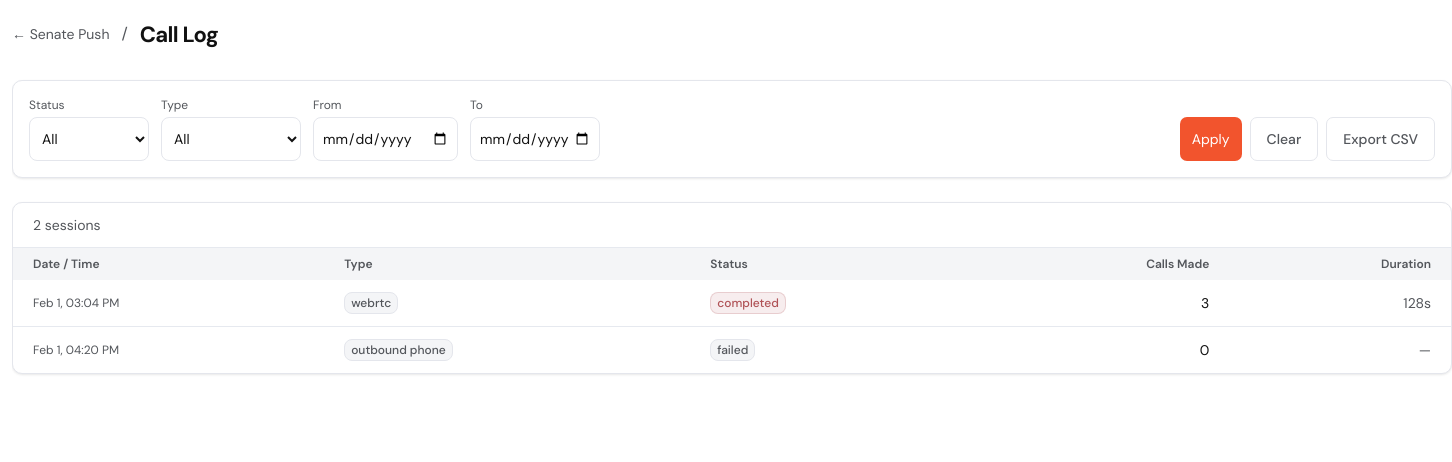
Test: CallLog — CSV export › reports an export failure
The image size is (1452, 462).
Expected: the heading "Call Log" is shown, [140,18,218,50]
Click the button "Export CSV" at coordinates (1381, 139), box [1326,117,1435,161]
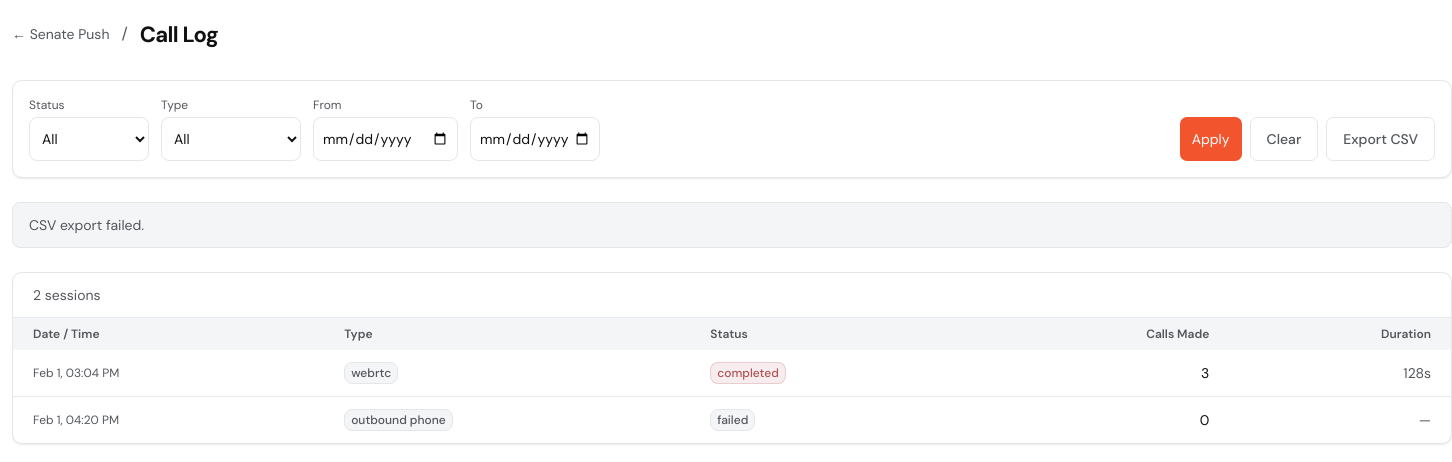
Expected: the text "CSV export failed." is shown, [12,202,1451,248]
